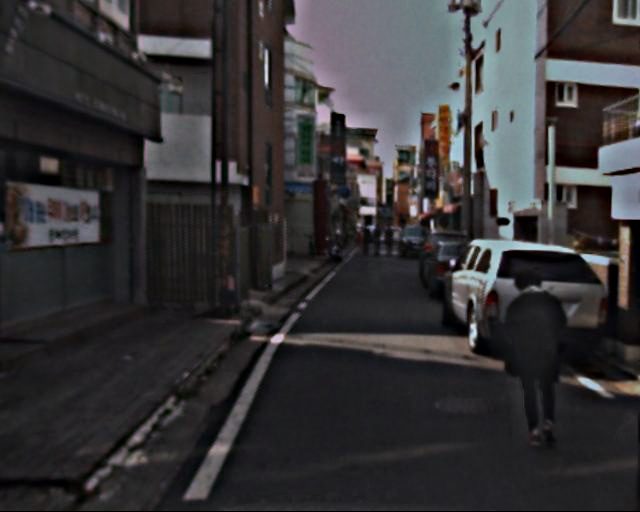person: (491, 268, 574, 450), (362, 225, 396, 259)
